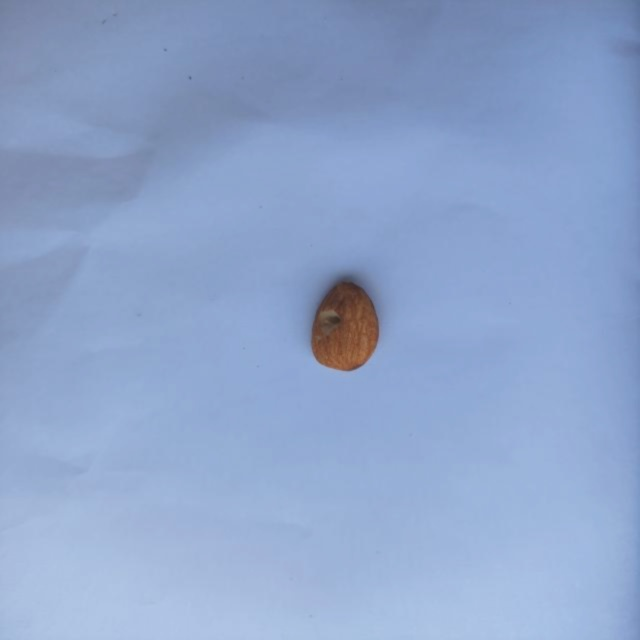grade3: (306, 277, 381, 375)
